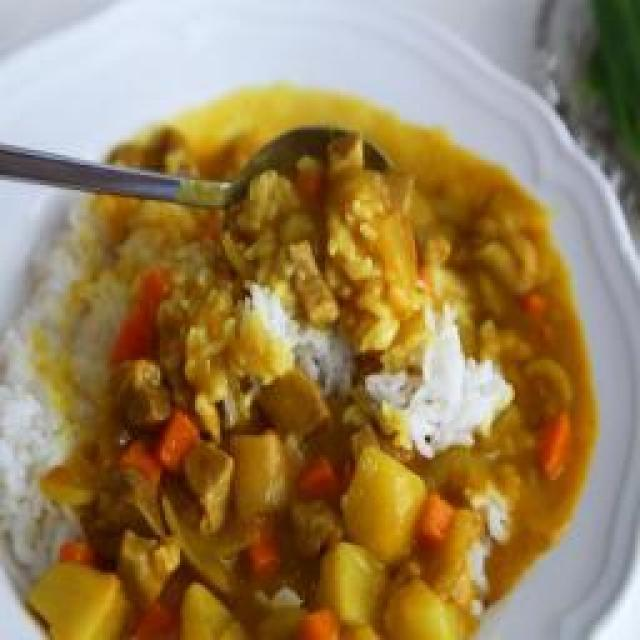curry: (73, 100, 518, 640)
